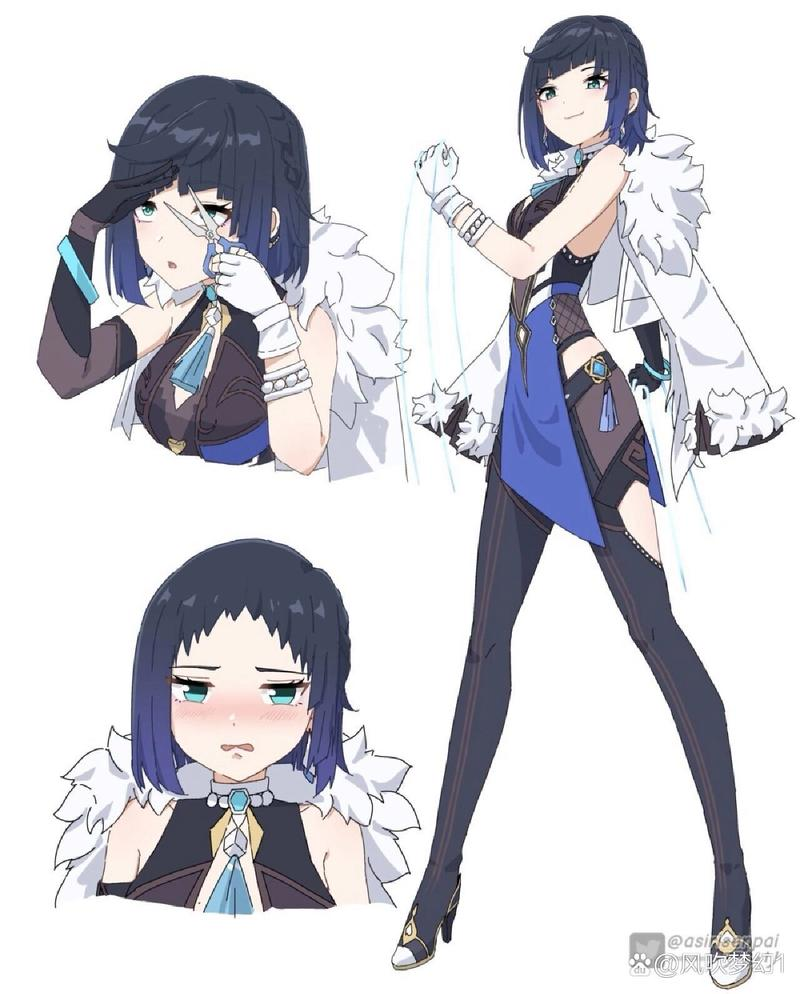夜兰: (403, 11, 775, 994), (27, 78, 402, 496), (45, 537, 391, 919)
